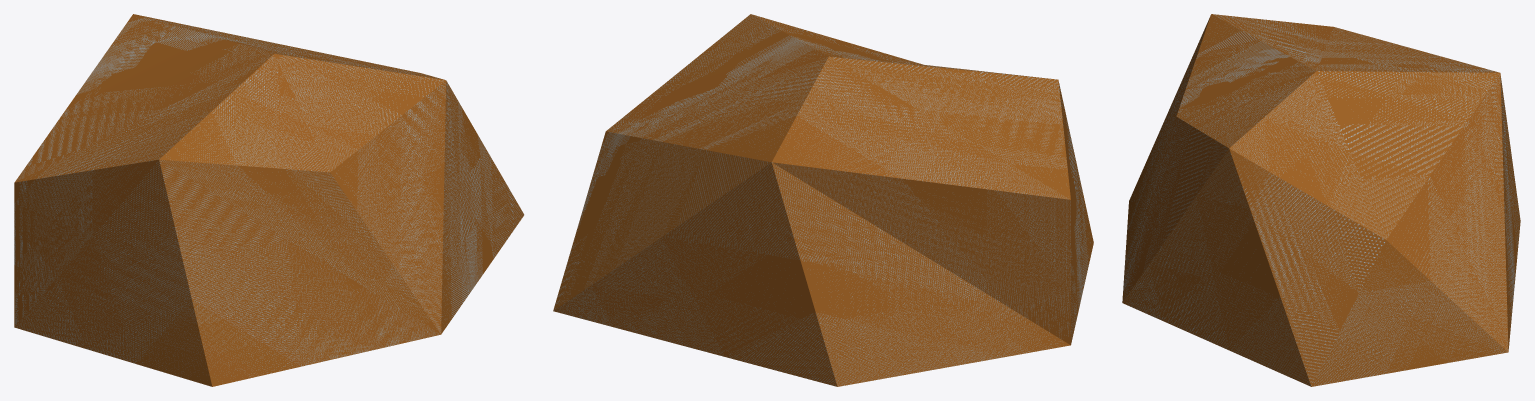
Rendered from Rock_Small_Dirt_01.fbx.
The picture shows the model from 3 angles, left to right: view 1: azimuth 30°, elevation 25°; view 2: azimuth 150°, elevation 25°; view 3: azimuth 270°, elevation 25°; orthographic projection. The views are drawn at different scales.
Visible parts, largest first — view 1: Model; view 2: Model; view 3: Model.
Part boxes in pixels (left/top/right/bottom): Model: left=14, top=14, right=524, bottom=386; Model: left=553, top=14, right=1093, bottom=386; Model: left=1122, top=14, right=1520, bottom=386.
Bounding box in the file's own units: 232 × 123 × 173.
